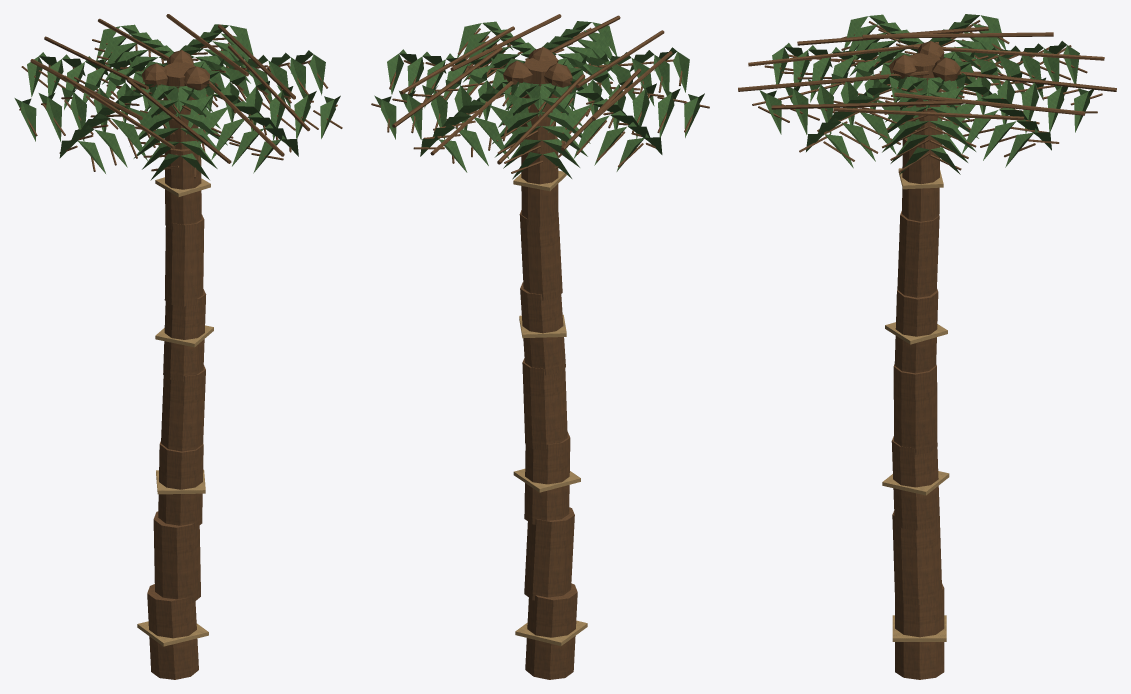
Rendered from en-007_palm_tree_variant_set__mature.obj.
The picture shows the model from 3 angles, left to right: view 1: azimuth 30°, elevation 25°; view 2: azimuth 150°, elevation 25°; view 3: azimuth 270°, elevation 25°; orthographic projection. The views are drawn at different scales.
Visible parts, largest first — view 1: en-007_palm_tree_variant_set__mature; view 2: en-007_palm_tree_variant_set__mature; view 3: en-007_palm_tree_variant_set__mature.
Part boxes in pixels (x1,y1,x2,y2): en-007_palm_tree_variant_set__mature: (14, 14, 342, 679); en-007_palm_tree_variant_set__mature: (371, 14, 709, 679); en-007_palm_tree_variant_set__mature: (738, 14, 1116, 679).
Bounding box in the file's own units: 2.06 × 4.26 × 2.34.
Materials: 3 (3 with a texture image).
